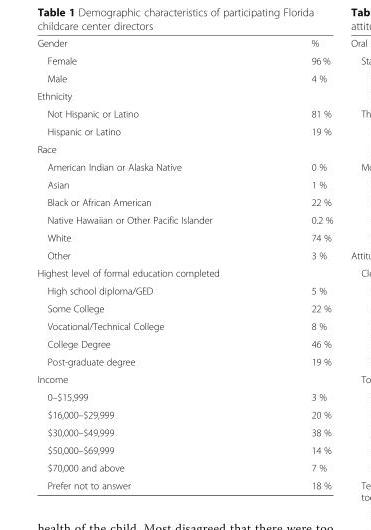table: (36, 37, 332, 490)
table column: (36, 37, 261, 490), (261, 37, 332, 490)
table projected row header: (36, 86, 332, 104), (36, 263, 332, 281), (36, 140, 332, 157), (36, 370, 332, 387)
table row: (36, 51, 332, 69), (36, 86, 332, 104), (36, 104, 332, 122), (36, 122, 332, 140), (36, 157, 332, 175), (36, 175, 332, 193), (36, 210, 332, 228), (36, 228, 332, 246), (36, 263, 332, 281), (36, 281, 332, 299), (36, 299, 332, 317), (36, 334, 332, 352), (36, 352, 332, 370), (36, 387, 332, 405), (36, 405, 332, 423), (36, 440, 332, 458), (36, 458, 332, 476), (36, 69, 332, 86), (36, 140, 332, 157), (36, 193, 332, 210), (36, 246, 332, 263), (36, 317, 332, 334), (36, 370, 332, 387), (36, 423, 332, 440), (36, 37, 332, 51), (36, 476, 332, 490)
